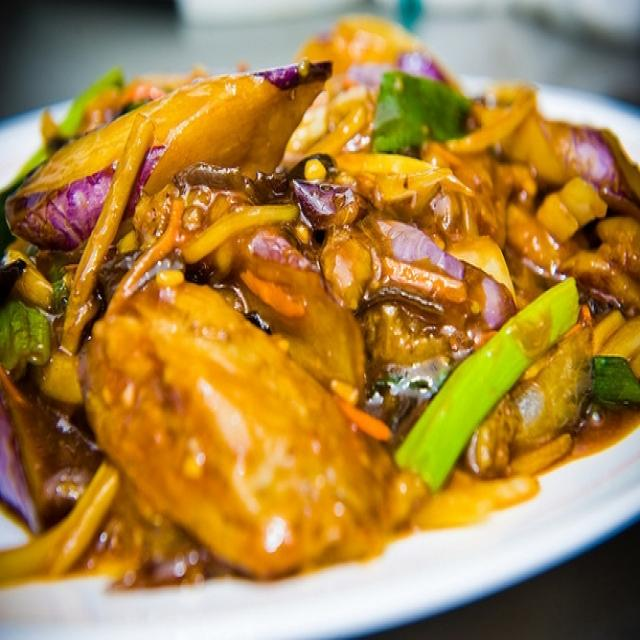鸡蛋料理: (18, 20, 627, 618)
